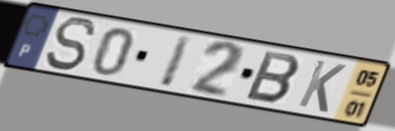0: (90, 26, 139, 78)
2: (187, 39, 247, 100)
B: (242, 49, 304, 106)
I: (156, 33, 196, 90)
K: (295, 58, 349, 115)
S: (43, 14, 99, 73)
